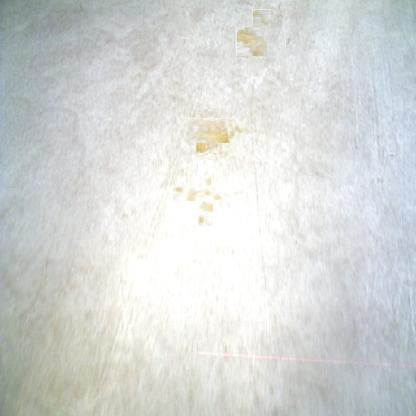liquid: (185, 173, 226, 214), (191, 114, 226, 148), (237, 26, 267, 57), (252, 9, 271, 26), (224, 122, 239, 136)
mark: (285, 34, 292, 48), (389, 153, 396, 159)
